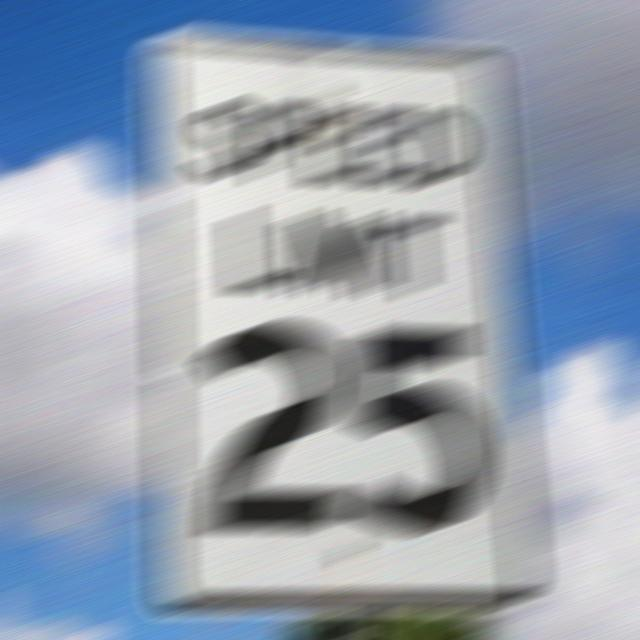speedLimit25: (145, 37, 544, 623)
